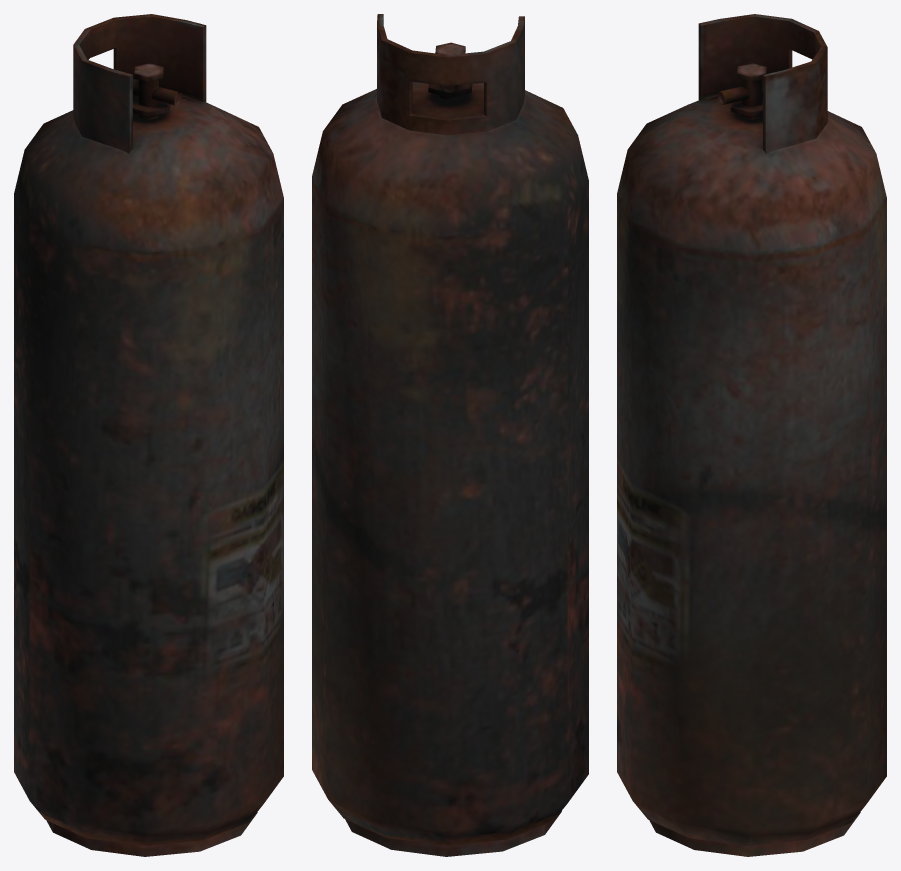
The model's file is LongCylinder.FBX.
3 renders of one model, left to right at view 1: azimuth 30°, elevation 25°; view 2: azimuth 150°, elevation 25°; view 3: azimuth 270°, elevation 25°, orthographic. The views are drawn at different scales.
Parts seen in each view (by area): view 1: LongCylinder; view 2: LongCylinder; view 3: LongCylinder.
Part boxes in pixels (x1=…): LongCylinder: x1=14, y1=14, x2=283, y2=856; LongCylinder: x1=312, y1=14, x2=588, y2=856; LongCylinder: x1=617, y1=14, x2=886, y2=856.
Size of the model in its own units: 44.46 by 139 by 44.47.
